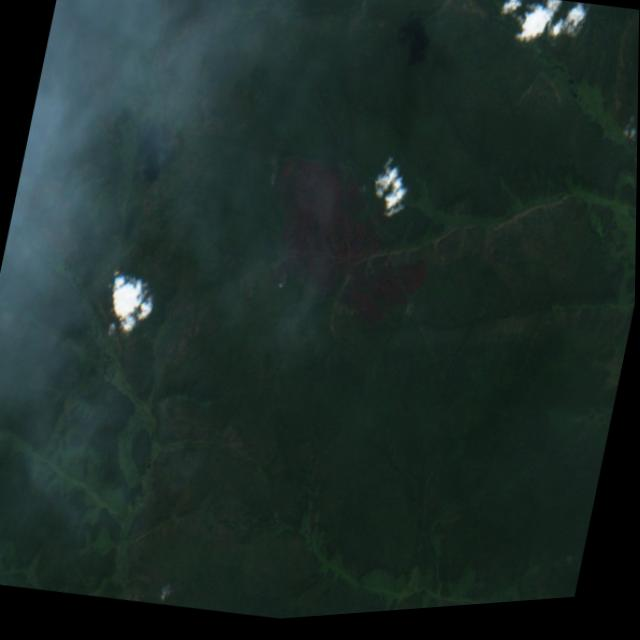fire: (247, 171, 324, 323), (96, 259, 157, 360)
